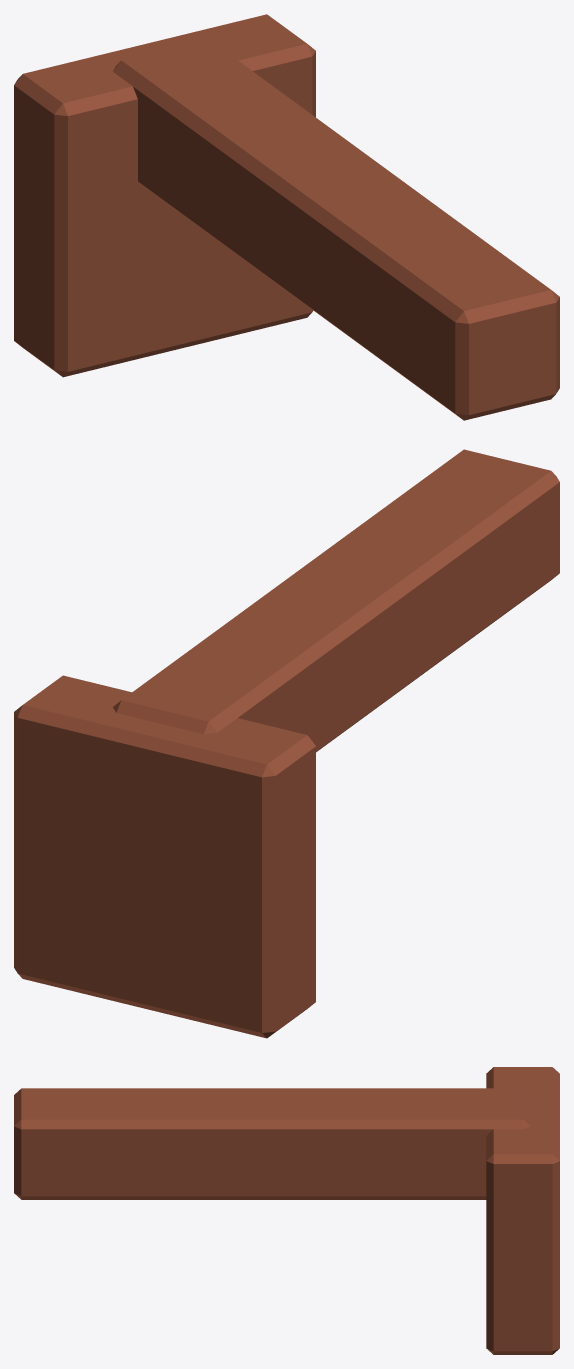
The model's file is hand_pallet_truck_release_lever.glb.
The picture shows the model from 3 angles, top to bottom: view 1: azimuth 30°, elevation 25°; view 2: azimuth 150°, elevation 25°; view 3: azimuth 270°, elevation 25°; orthographic projection. The views are drawn at different scales.
Parts seen in each view (by area): view 1: hand_pallet_truck_release_lever.001; view 2: hand_pallet_truck_release_lever.001; view 3: hand_pallet_truck_release_lever.001.
Part boxes in pixels (bbox=[...]): hand_pallet_truck_release_lever.001: bbox=[14, 14, 559, 420]; hand_pallet_truck_release_lever.001: bbox=[14, 449, 559, 1038]; hand_pallet_truck_release_lever.001: bbox=[14, 1067, 559, 1354].
Bounding box in the file's own units: 0.03 × 0.031 × 0.074.
